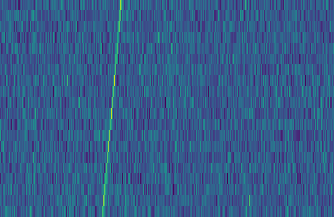signal: (97, 0, 125, 217)
